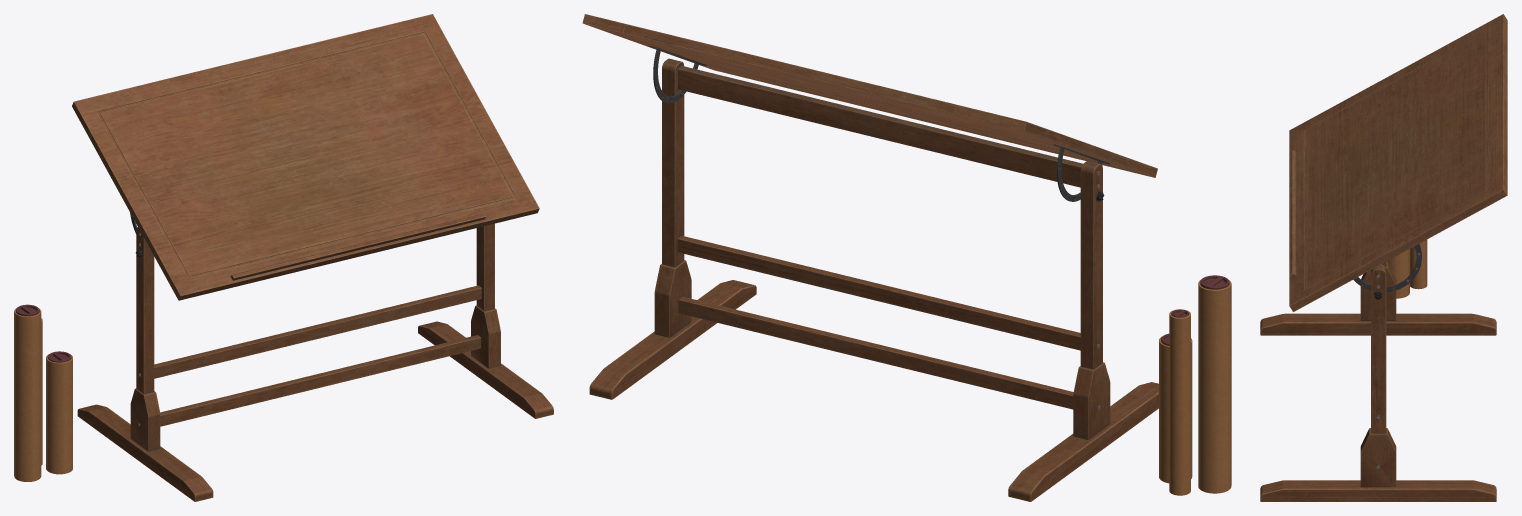
The model's file is study-desk.glb.
3 views of the same model, side by side, from view 1: azimuth 30°, elevation 25°; view 2: azimuth 150°, elevation 25°; view 3: azimuth 270°, elevation 25° (orthographic). The views are drawn at different scales.
Parts seen in each view (by area): view 1: Object_3, Object_2, Object_1; view 2: Object_2, Object_1, Object_3, Object_4; view 3: Object_3, Object_2, Object_1, Object_4.
Boxes of the visible parts, x1,y1,x2,y2 form: Object_3: [72, 14, 539, 300]; Object_2: [77, 223, 553, 501]; Object_1: [14, 308, 72, 481]; Object_2: [589, 58, 1158, 501]; Object_1: [1159, 280, 1231, 495]; Object_3: [582, 14, 1157, 177]; Object_4: [649, 46, 1109, 201]; Object_3: [1289, 14, 1507, 311]; Object_2: [1260, 261, 1496, 501]; Object_1: [1387, 239, 1427, 298]; Object_4: [1353, 244, 1421, 292].
Size of the model in its own units: 1.3 by 0.8238 by 0.5901.
8 materials, 8 textured.
